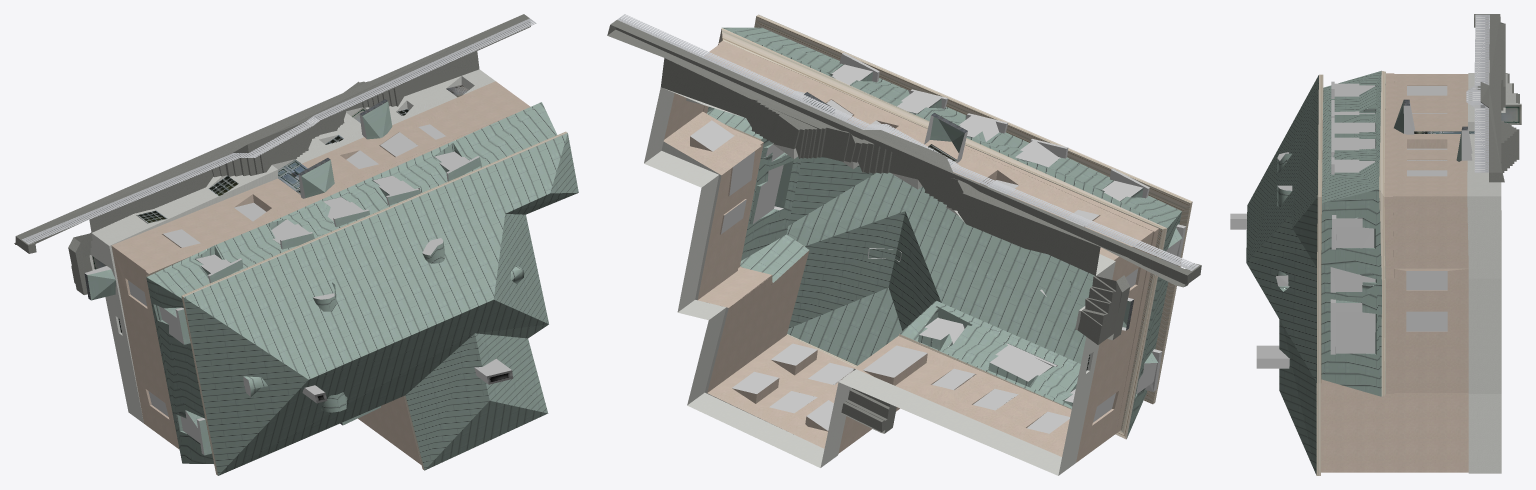
Rendered from Falgi_tee_4_1-origo.obj.
3 views of the same model, side by side, from view 1: azimuth 30°, elevation 25°; view 2: azimuth 150°, elevation 25°; view 3: azimuth 270°, elevation 25° (orthographic). The views are drawn at different scales.
Visible parts, largest first — view 1: Falgi_tee_4_1; view 2: Falgi_tee_4_1; view 3: Falgi_tee_4_1.
Part boxes in pixels (box(x1,y1,x2,y2)): Falgi_tee_4_1: box(14, 14, 578, 475); Falgi_tee_4_1: box(607, 14, 1201, 475); Falgi_tee_4_1: box(1230, 14, 1521, 475).
Bounding box in the file's own units: 30.06 × 19.5 × 14.13.
